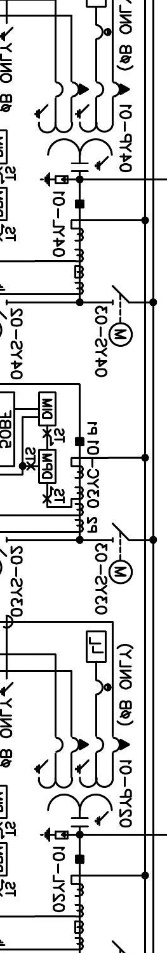115_1way_ds_w_motor: (108, 522, 134, 585), (108, 284, 134, 347)
115_cvt_1p: (34, 735, 131, 828), (33, 80, 130, 173)
115_la: (39, 827, 69, 842), (39, 172, 69, 187)
DIM: (38, 391, 57, 427)
DPM: (38, 448, 57, 484)
LL: (85, 630, 107, 663)
